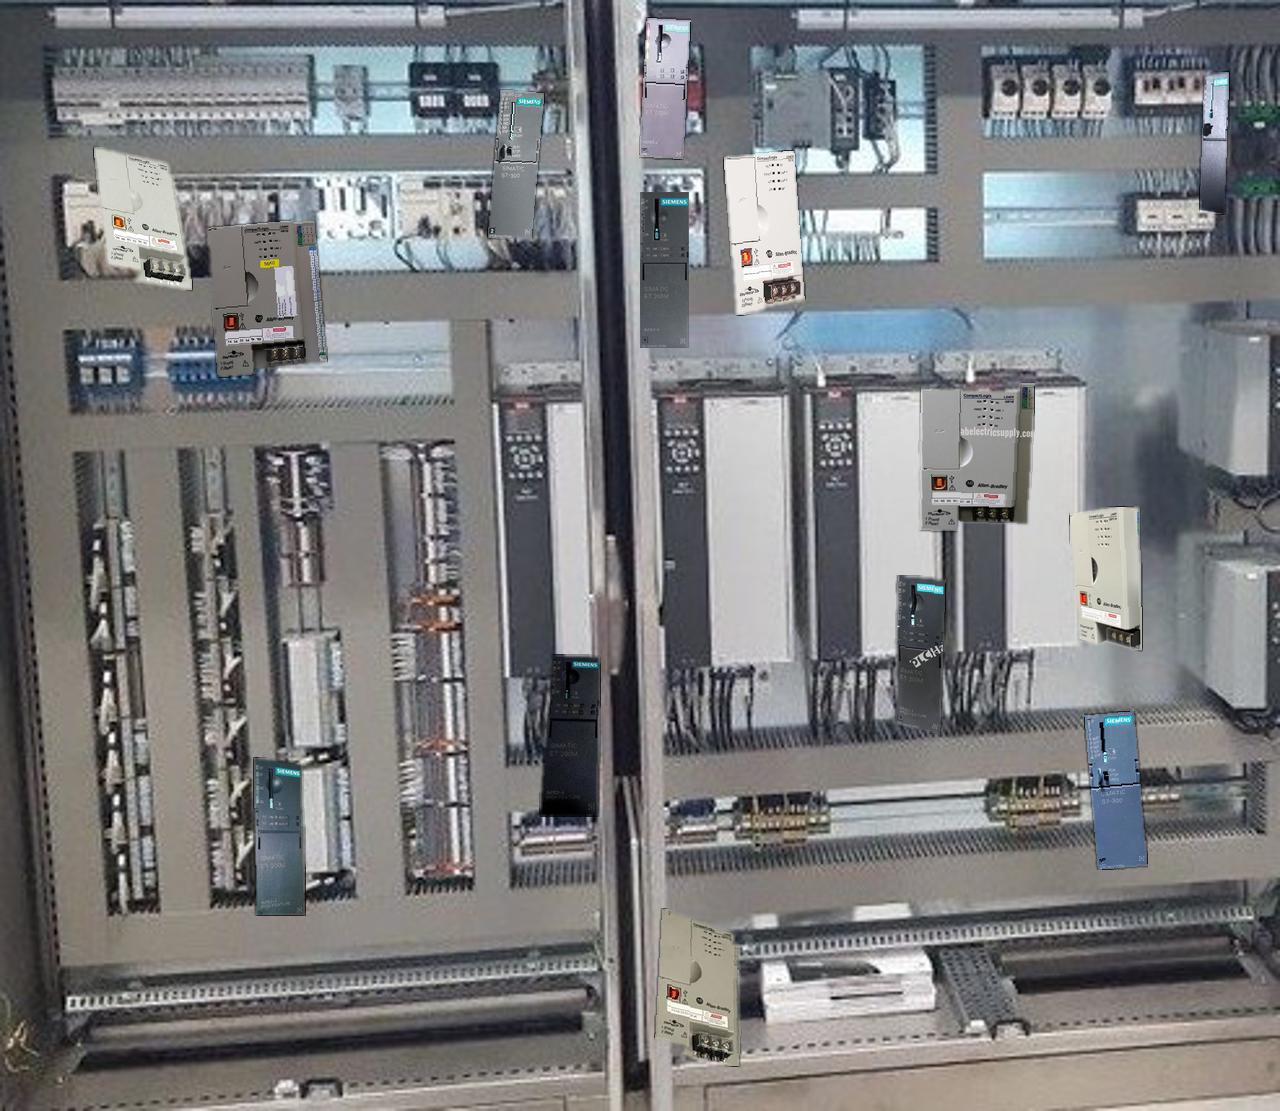AllenBradley: (208, 220, 327, 376), (920, 383, 1034, 530), (94, 147, 190, 289), (724, 151, 804, 314), (655, 909, 739, 1065), (1070, 507, 1141, 649)
Siemens: (1084, 711, 1147, 869), (488, 90, 543, 238), (1199, 72, 1228, 213)
